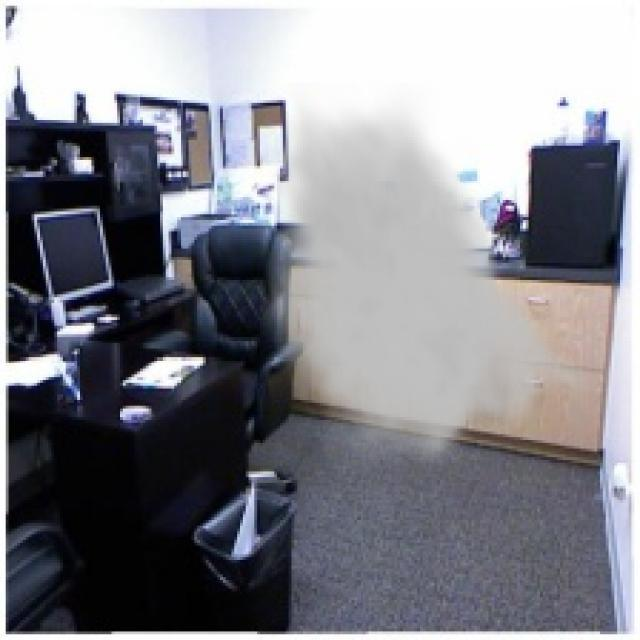Smoke: (260, 82, 609, 474)
